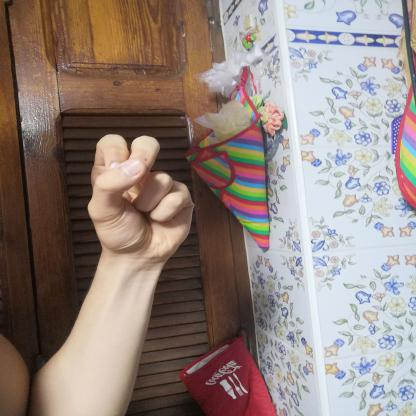QAAF: (70, 124, 212, 268)
